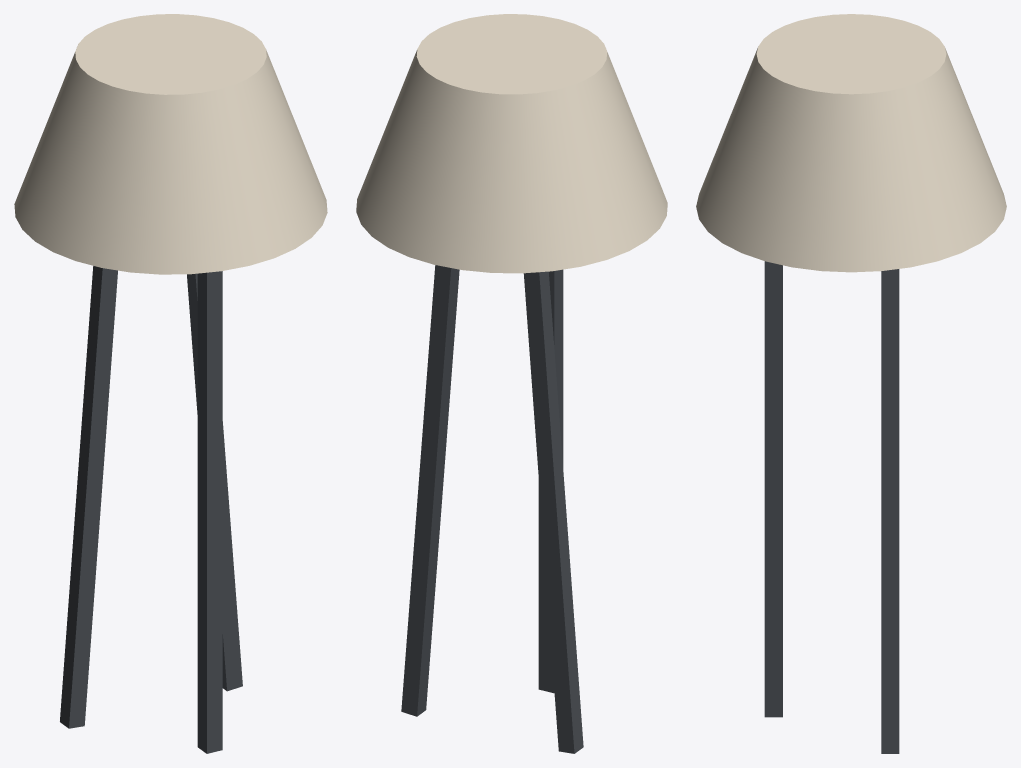
Rendered from lamp_tripod.glb.
3 renders of one model, left to right at view 1: azimuth 30°, elevation 25°; view 2: azimuth 150°, elevation 25°; view 3: azimuth 270°, elevation 25°, orthographic.
Visible parts, largest first — view 1: TripodShade, TripodLeg, _MeshInstance3D_20, _MeshInstance3D_19; view 2: TripodShade, _MeshInstance3D_20, _MeshInstance3D_19, TripodLeg; view 3: TripodShade, _MeshInstance3D_19, TripodLeg.
Boxes of the visible parts, bbox=[...] form: TripodShade: bbox=[14, 14, 327, 274]; TripodLeg: bbox=[197, 271, 222, 753]; _MeshInstance3D_20: bbox=[60, 266, 117, 728]; _MeshInstance3D_19: bbox=[187, 273, 242, 691]; TripodShade: bbox=[356, 14, 667, 273]; _MeshInstance3D_20: bbox=[523, 271, 583, 753]; _MeshInstance3D_19: bbox=[401, 265, 459, 716]; TripodLeg: bbox=[538, 269, 563, 693]; TripodShade: bbox=[696, 14, 1006, 272]; _MeshInstance3D_19: bbox=[881, 269, 899, 753]; TripodLeg: bbox=[764, 261, 782, 717].
Bounding box in the file's own units: 0.72 × 1.69 × 0.72.
